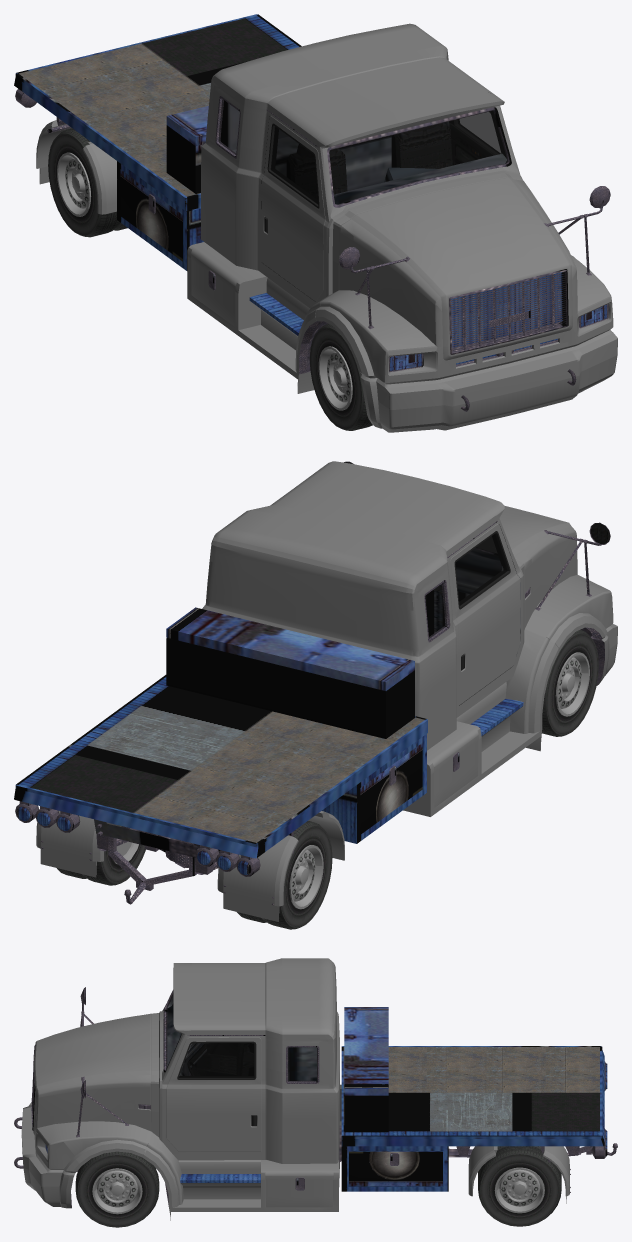
File: Truck_2.FBX
3 views of the same model, one above another, from view 1: azimuth 30°, elevation 25°; view 2: azimuth 150°, elevation 25°; view 3: azimuth 270°, elevation 25° (orthographic). The views are drawn at different scales.
Visible parts, largest first — view 1: Body, Door_R, Wheel_BR, Wheel_FR, Door_L; view 2: Body, Door_R, Wheel_FR, Wheel_BR, Wheel_BL; view 3: Body, Door_L, Wheel_BL, Wheel_FL.
Boxes of the visible parts, bbox=[...] form: Body: bbox=[14, 14, 617, 432]; Door_R: bbox=[261, 115, 325, 301]; Wheel_BR: bbox=[48, 128, 127, 237]; Wheel_FR: bbox=[309, 323, 372, 430]; Door_L: bbox=[449, 111, 506, 165]; Body: bbox=[14, 461, 617, 921]; Door_R: bbox=[450, 524, 520, 705]; Wheel_FR: bbox=[542, 629, 598, 736]; Wheel_BR: bbox=[237, 821, 332, 929]; Wheel_BL: bbox=[57, 841, 145, 885]; Body: bbox=[14, 958, 617, 1220]; Door_L: bbox=[166, 1037, 261, 1151]; Wheel_BL: bbox=[478, 1146, 561, 1226]; Wheel_FL: bbox=[75, 1151, 159, 1227].
Size of the model in its own units: 67.38 by 60.46 by 170.
